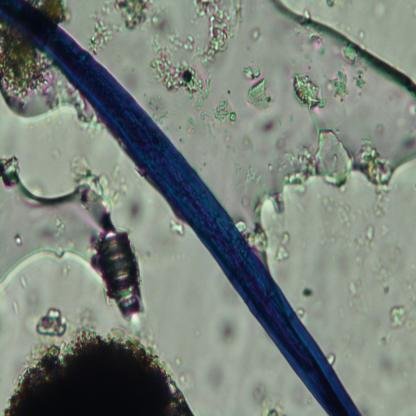Air bubble: (170, 0, 416, 232), (0, 154, 120, 286), (0, 39, 88, 142)
Background material: (0, 325, 195, 416), (280, 62, 355, 182), (181, 0, 245, 64), (142, 40, 205, 98), (64, 157, 130, 210), (87, 0, 154, 52), (313, 183, 397, 223), (204, 303, 239, 388), (326, 40, 368, 104), (234, 52, 278, 112), (351, 129, 386, 188), (192, 94, 242, 131), (243, 377, 285, 416), (32, 300, 69, 341), (352, 229, 384, 259), (272, 231, 298, 266), (301, 31, 328, 63), (390, 297, 412, 335), (367, 0, 391, 21), (253, 121, 279, 140), (150, 93, 169, 118), (400, 128, 416, 152), (247, 20, 263, 43), (344, 275, 358, 301), (133, 192, 145, 220), (10, 229, 24, 249), (190, 324, 204, 342), (299, 283, 313, 299), (404, 102, 416, 116), (324, 0, 335, 8)
Cotton: (0, 0, 359, 416)
Diatom: (96, 224, 140, 322)
